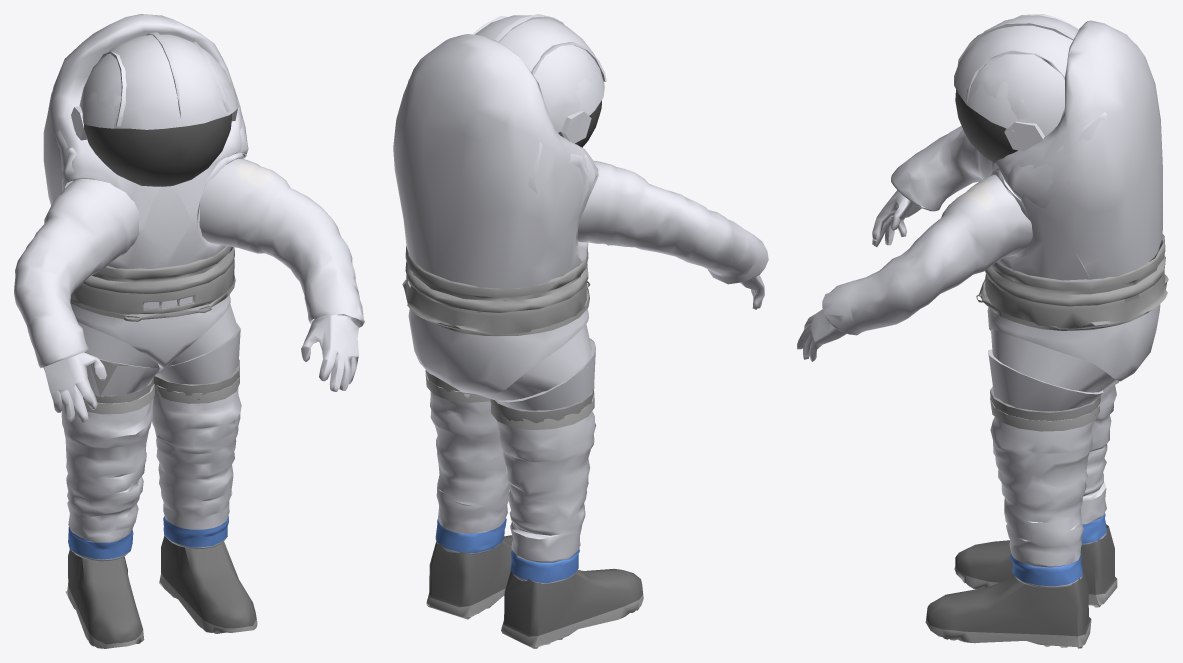
The model's file is mark3_lod1.glb.
3 renders of one model, left to right at view 1: azimuth 30°, elevation 25°; view 2: azimuth 150°, elevation 25°; view 3: azimuth 270°, elevation 25°, orthographic. The views are drawn at different scales.
Parts seen in each view (by area): view 1: mark3_lod1; view 2: mark3_lod1; view 3: mark3_lod1.
Part boxes in pixels (bbox=[...]): mark3_lod1: bbox=[14, 14, 364, 648]; mark3_lod1: bbox=[393, 14, 768, 648]; mark3_lod1: bbox=[797, 14, 1168, 648].
Bounding box in the file's own units: 1.11 × 1.99 × 1.13.
